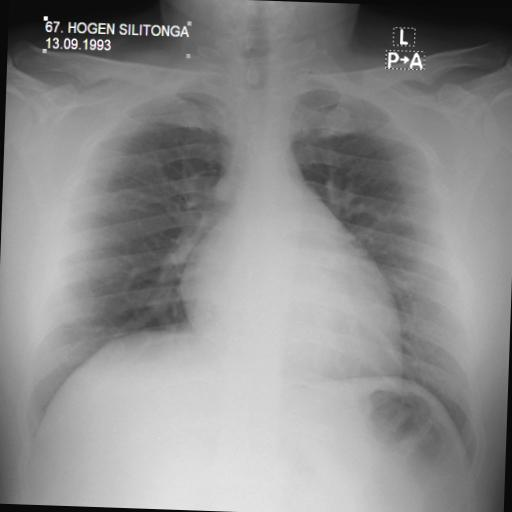kardiomegali: (14, 40, 500, 471)
